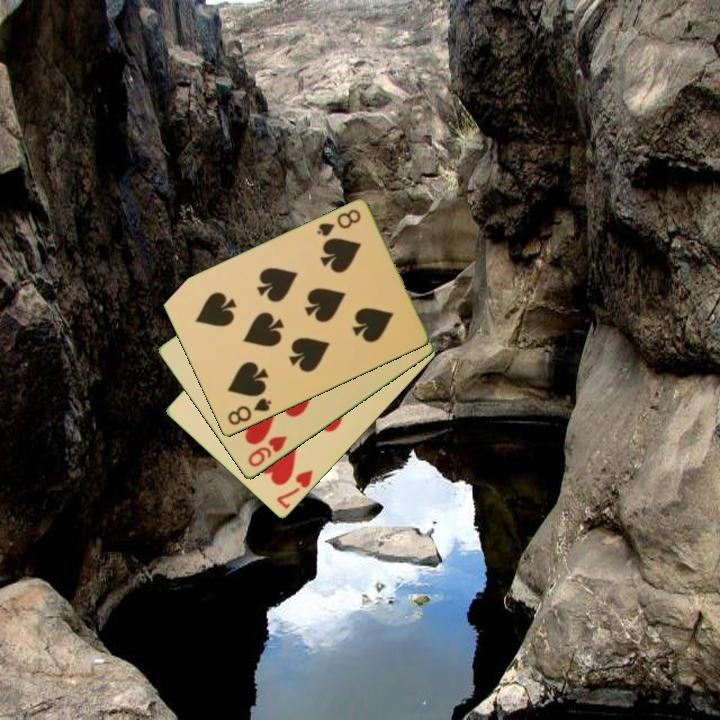7h: (273, 466, 316, 512)
8s: (313, 206, 364, 240), (224, 395, 274, 429)
9h: (244, 432, 291, 470)
